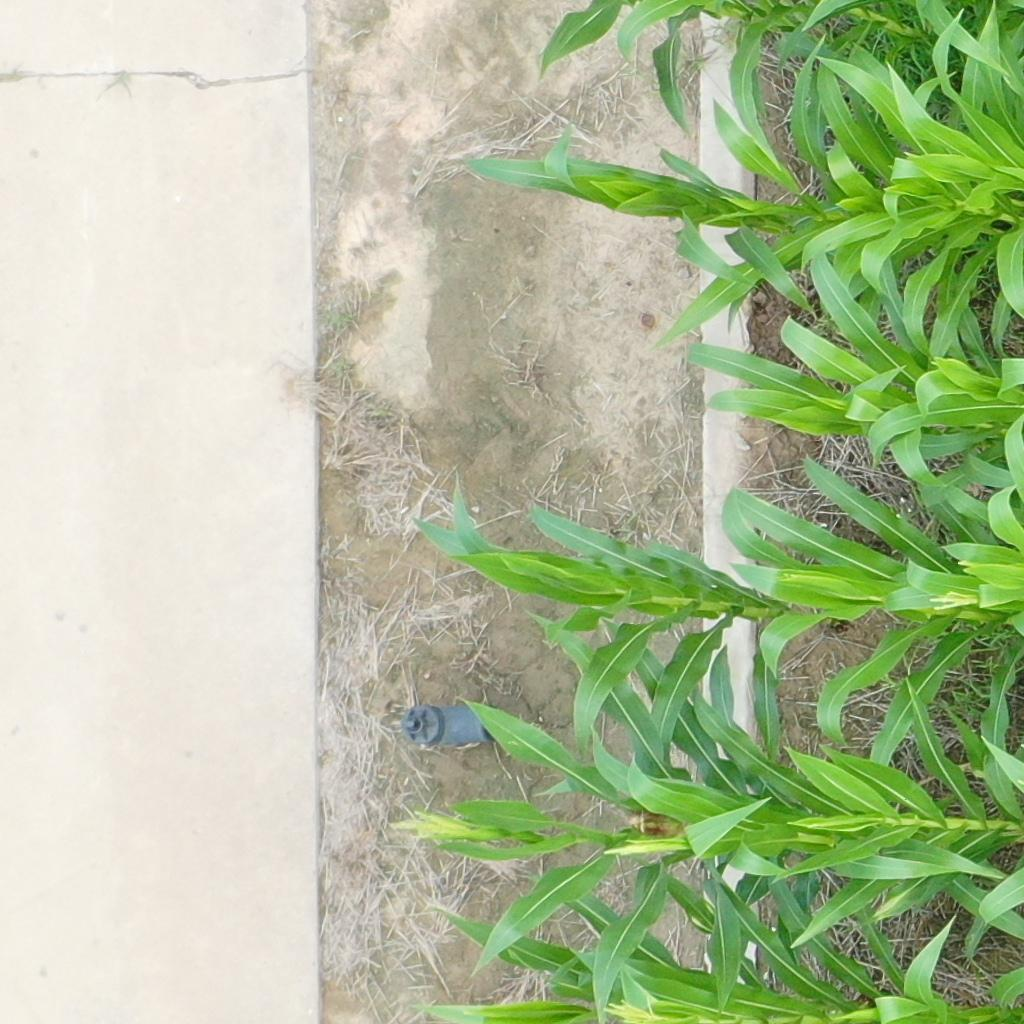Tassel: (383, 806, 493, 849), (602, 836, 695, 861), (603, 994, 677, 1024), (927, 588, 981, 610)
